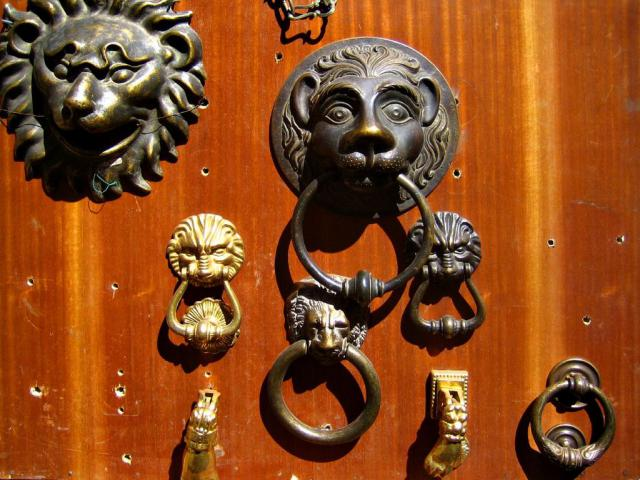Door-handle: (266, 32, 459, 312), (0, 0, 210, 207), (263, 271, 387, 446), (163, 210, 247, 356), (396, 211, 483, 345), (529, 361, 615, 475), (416, 370, 476, 476), (176, 388, 220, 480), (270, 0, 338, 22)
